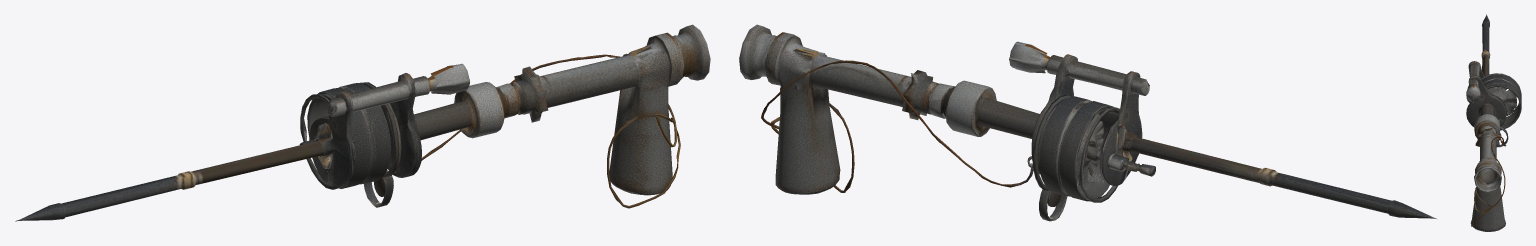
The model's file is wpn_harpoon_gun.glb.
3 views of the same model, side by side, from view 1: azimuth 30°, elevation 25°; view 2: azimuth 150°, elevation 25°; view 3: azimuth 270°, elevation 25° (orthographic). The views are drawn at different scales.
Size of the model in its own units: 0.9531 by 0.2544 by 0.1333.
1 material, 1 textured.
